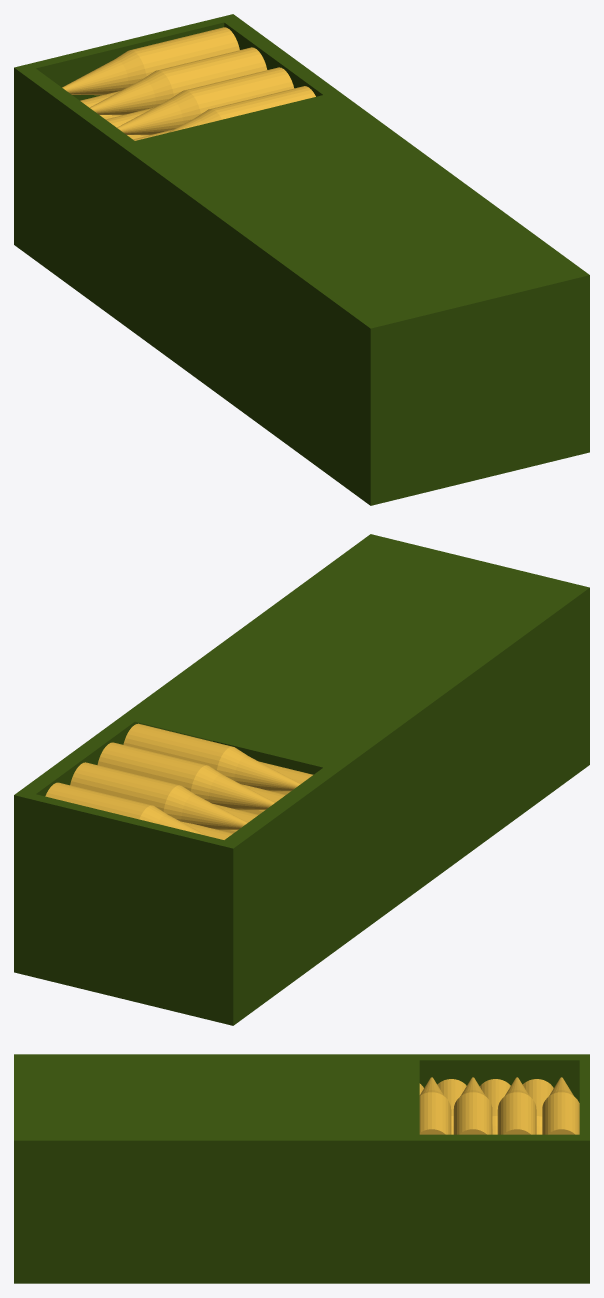
File: Potrons.fbx
3 renders of one model, top to bottom at view 1: azimuth 30°, elevation 25°; view 2: azimuth 150°, elevation 25°; view 3: azimuth 270°, elevation 25°, orthographic. The views are drawn at different scales.
Visible parts, largest first — view 1: Cube, Cylinder, Cylinder.001, Cylinder.002, Cylinder.003; view 2: Cube, Cylinder.002, Cylinder.001, Cylinder.003, Cylinder; view 3: Cube, Cylinder.001, Cylinder.002, Cylinder, Cylinder.003, Cylinder.007, Cylinder.006, Cylinder.005.
Boxes of the visible parts, <box> form: Cube: <box>14,14,589,505</box>; Cylinder: <box>62,27,239,95</box>; Cylinder.001: <box>90,47,267,115</box>; Cylinder.002: <box>117,67,294,135</box>; Cylinder.003: <box>168,86,315,132</box>; Cube: <box>14,534,589,1025</box>; Cylinder.002: <box>97,742,274,810</box>; Cylinder.001: <box>70,762,247,830</box>; Cylinder.003: <box>123,723,300,791</box>; Cylinder: <box>45,782,206,835</box>; Cube: <box>14,1054,589,1283</box>; Cylinder.001: <box>497,1077,536,1134</box>; Cylinder.002: <box>453,1077,492,1134</box>; Cylinder: <box>542,1077,579,1134</box>; Cylinder.003: <box>419,1077,451,1134</box>; Cylinder.007: <box>522,1079,553,1134</box>; Cylinder.006: <box>480,1079,510,1134</box>; Cylinder.005: <box>437,1079,466,1134</box>.
Bounding box in the file's own units: 12.8 × 10.07 × 36.04.
